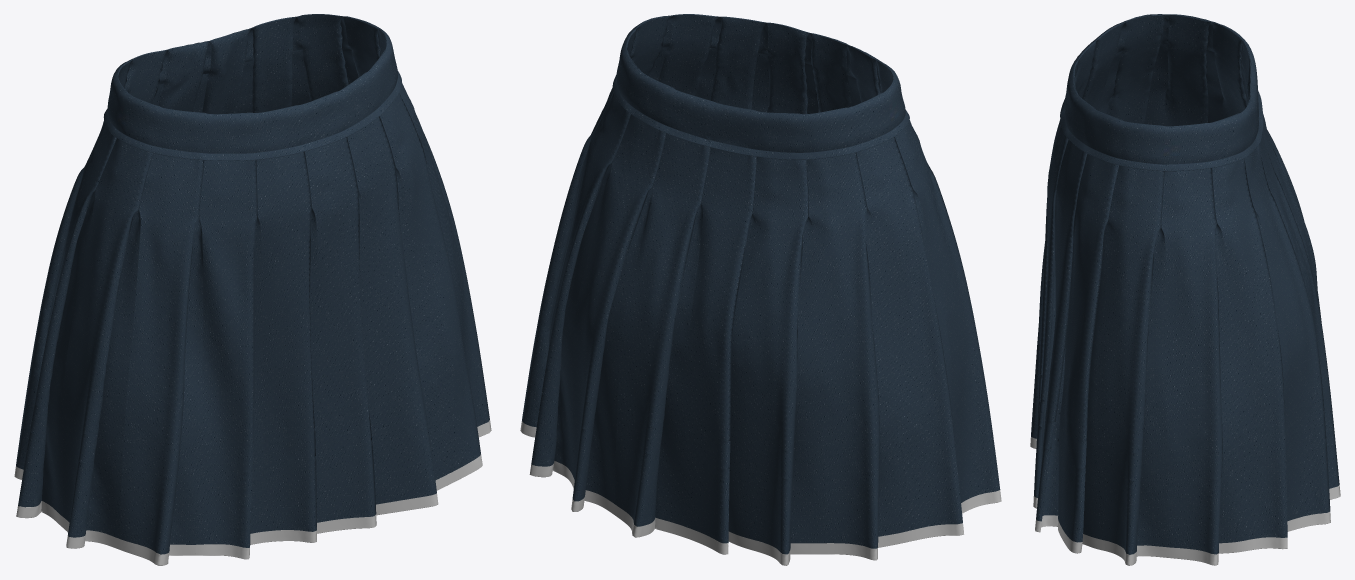
File: blue-skirt.glb
The picture shows the model from 3 angles, left to right: view 1: azimuth 30°, elevation 25°; view 2: azimuth 150°, elevation 25°; view 3: azimuth 270°, elevation 25°; orthographic projection. The views are drawn at different scales.
Visible parts, largest first — view 1: Pleated Skirt, Pleated Skirt_FABRIC 1_FRONT_5199_0.001, Pleated Skirt_FABRIC 1_FRONT_5199_0.002; view 2: Pleated Skirt_FABRIC 1_FRONT_5199_0.001, Pleated Skirt, Pleated Skirt_FABRIC 1_FRONT_5199_0.002; view 3: Pleated Skirt_FABRIC 1_FRONT_5199_0.001, Pleated Skirt, Pleated Skirt_FABRIC 1_FRONT_5199_0.002.
Part boxes in pixels (x1=…): Pleated Skirt: x1=14, y1=14, x2=491, y2=565; Pleated Skirt_FABRIC 1_FRONT_5199_0.001: x1=16, y1=14, x2=489, y2=516; Pleated Skirt_FABRIC 1_FRONT_5199_0.002: x1=48, y1=60, x2=469, y2=400; Pleated Skirt_FABRIC 1_FRONT_5199_0.001: x1=522, y1=16, x2=962, y2=554; Pleated Skirt: x1=520, y1=14, x2=1001, y2=565; Pleated Skirt_FABRIC 1_FRONT_5199_0.002: x1=806, y1=107, x2=909, y2=536; Pleated Skirt_FABRIC 1_FRONT_5199_0.001: x1=1062, y1=14, x2=1339, y2=554; Pleated Skirt: x1=1030, y1=14, x2=1340, y2=565; Pleated Skirt_FABRIC 1_FRONT_5199_0.002: x1=1065, y1=22, x2=1247, y2=537.
Size of the model in its own units: 425 by 401 by 270.
3 materials, 2 textured.
